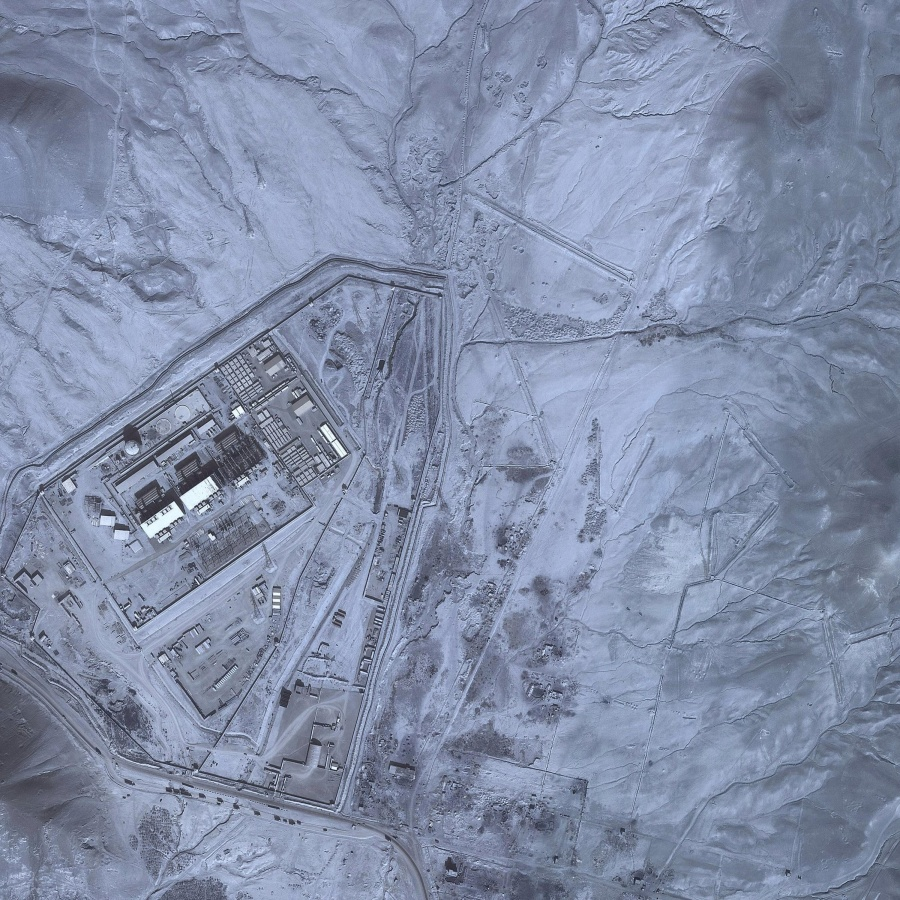PowerPlant: (98, 358, 347, 542)
